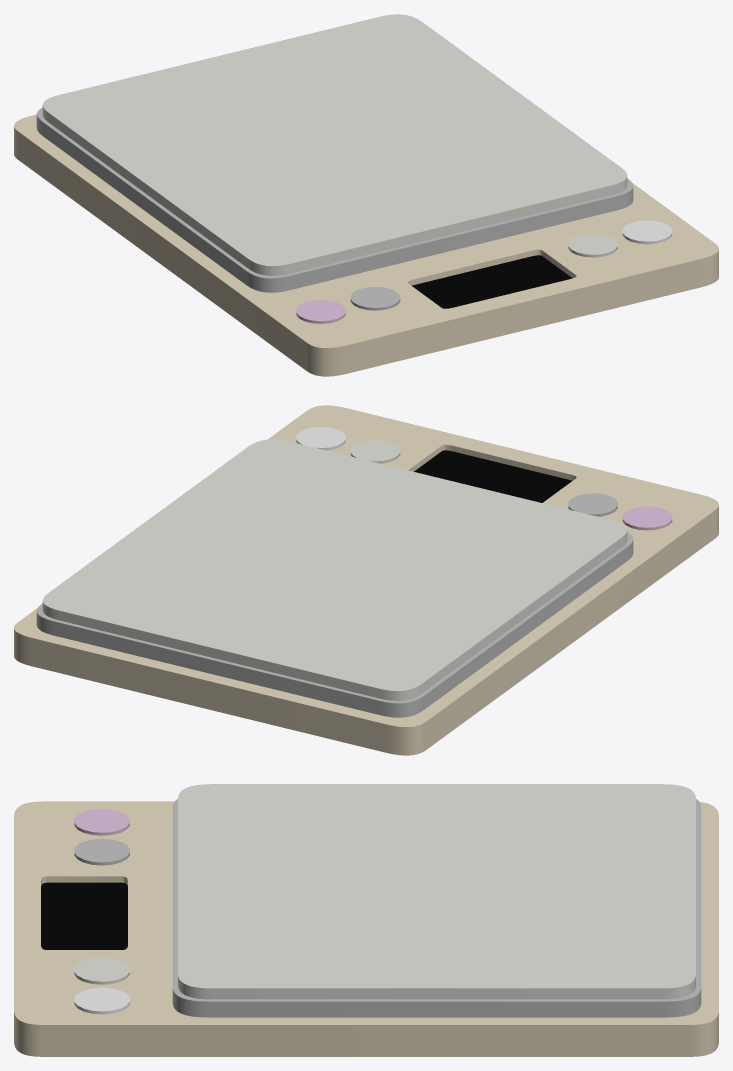
Rendered from scales.gltf.
3 views of the same model, one above another, from view 1: azimuth 30°, elevation 25°; view 2: azimuth 150°, elevation 25°; view 3: azimuth 270°, elevation 25° (orthographic). The views are drawn at different scales.
Parts seen in each view (by area): view 1: Box003, Box001, Box004, Box005, Cylinder003, Cylinder002, Cylinder004, Объект; view 2: Box003, Box001, Box004, Box005, Объект, Cylinder004, Cylinder002, Cylinder003; view 3: Box003, Box001, Box004, Box005, Cylinder004, Объект, Cylinder003, Cylinder002.
Part boxes in pixels (x1,y1,x2,y2): Box003: (42, 14, 627, 275); Box001: (14, 114, 718, 376); Box004: (36, 108, 633, 292); Box005: (412, 255, 572, 308); Cylinder003: (350, 286, 400, 310); Cylinder002: (622, 220, 672, 244); Cylinder004: (568, 233, 617, 257); Объект: (296, 300, 345, 323); Box003: (42, 439, 627, 700); Box001: (14, 405, 718, 755); Box004: (36, 532, 633, 717); Box005: (414, 450, 572, 502); Объект: (622, 506, 672, 530); Cylinder004: (350, 440, 400, 463); Cylinder002: (296, 427, 345, 450); Cylinder003: (568, 493, 617, 516); Box003: (178, 784, 695, 999); Box001: (14, 801, 718, 1056); Box004: (172, 799, 701, 1017); Box005: (41, 882, 127, 949); Cylinder004: (74, 958, 129, 984); Объект: (74, 809, 129, 835); Cylinder003: (74, 838, 129, 865); Cylinder002: (74, 987, 129, 1014).
Bounding box in the file's own units: 1.5 × 0.1843 × 2.
